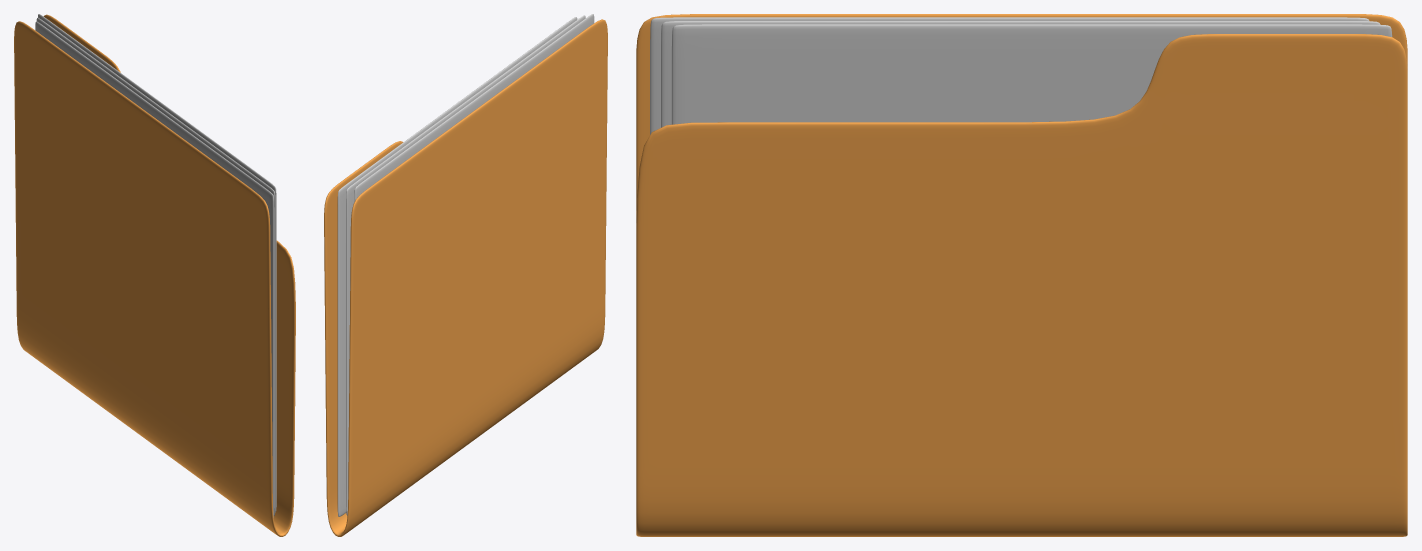
The model's file is Folder.glb.
The picture shows the model from 3 angles, left to right: view 1: azimuth 30°, elevation 25°; view 2: azimuth 150°, elevation 25°; view 3: azimuth 270°, elevation 25°; orthographic projection. The views are drawn at different scales.
Parts seen in each view (by area): view 1: Folder.001; view 2: Folder.001; view 3: Folder.001.
Boxes of the visible parts, x1=… form: Folder.001: x1=14, y1=14, x2=295, y2=536; Folder.001: x1=324, y1=14, x2=607, y2=536; Folder.001: x1=636, y1=14, x2=1407, y2=536.
Size of the model in its own units: 0.4093 by 4.54 by 6.16.
